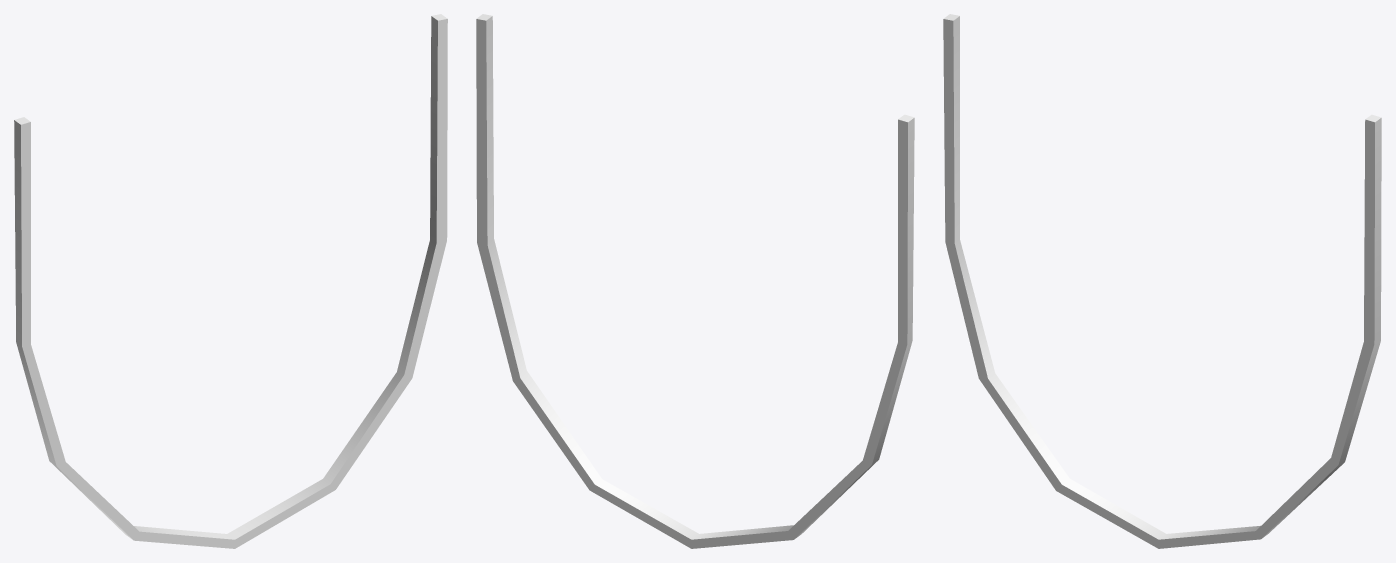
File: SM_Tree_Vines_01.glb
The picture shows the model from 3 angles, left to right: view 1: azimuth 30°, elevation 25°; view 2: azimuth 150°, elevation 25°; view 3: azimuth 330°, elevation 25°; orthographic projection.
Parts seen in each view (by area): view 1: SM_Tree_Vines_01; view 2: SM_Tree_Vines_01; view 3: SM_Tree_Vines_01.
Part boxes in pixels (bbox=[...]): SM_Tree_Vines_01: bbox=[14, 14, 447, 548]; SM_Tree_Vines_01: bbox=[476, 14, 914, 548]; SM_Tree_Vines_01: bbox=[943, 14, 1381, 548].
Bounding box in the file's own units: 1.56 × 1.66 × 0.0566.
Materials: 1 (1 with a texture image).
